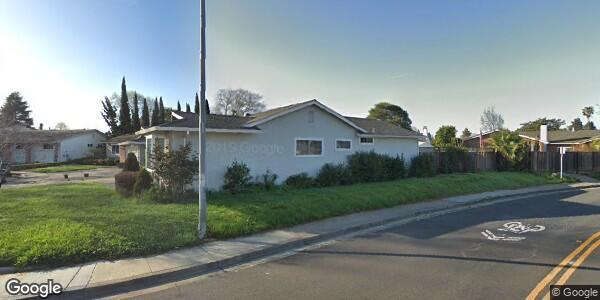Steel_Pole: (195, 1, 210, 239)
